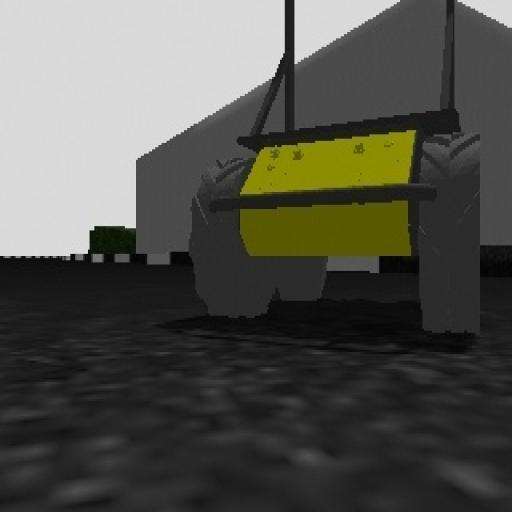huskya200: (192, 1, 490, 397)
